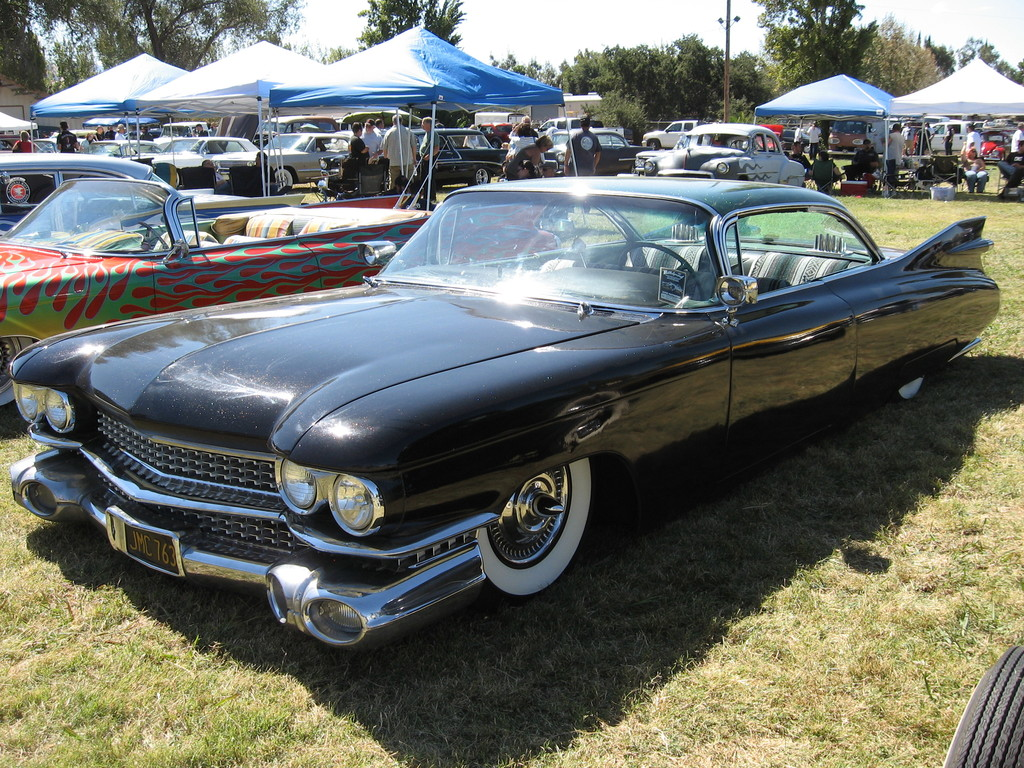Car: (35, 177, 995, 642), (0, 173, 571, 411), (0, 151, 308, 238), (633, 124, 803, 190), (942, 643, 1023, 767), (209, 129, 355, 193), (403, 129, 513, 183), (544, 132, 652, 177), (127, 140, 256, 169), (641, 117, 694, 149), (84, 135, 177, 153), (829, 117, 878, 148), (924, 119, 970, 148), (538, 117, 607, 136), (263, 117, 336, 133), (974, 132, 1010, 163), (149, 120, 205, 136), (483, 122, 514, 148), (35, 138, 86, 153)
